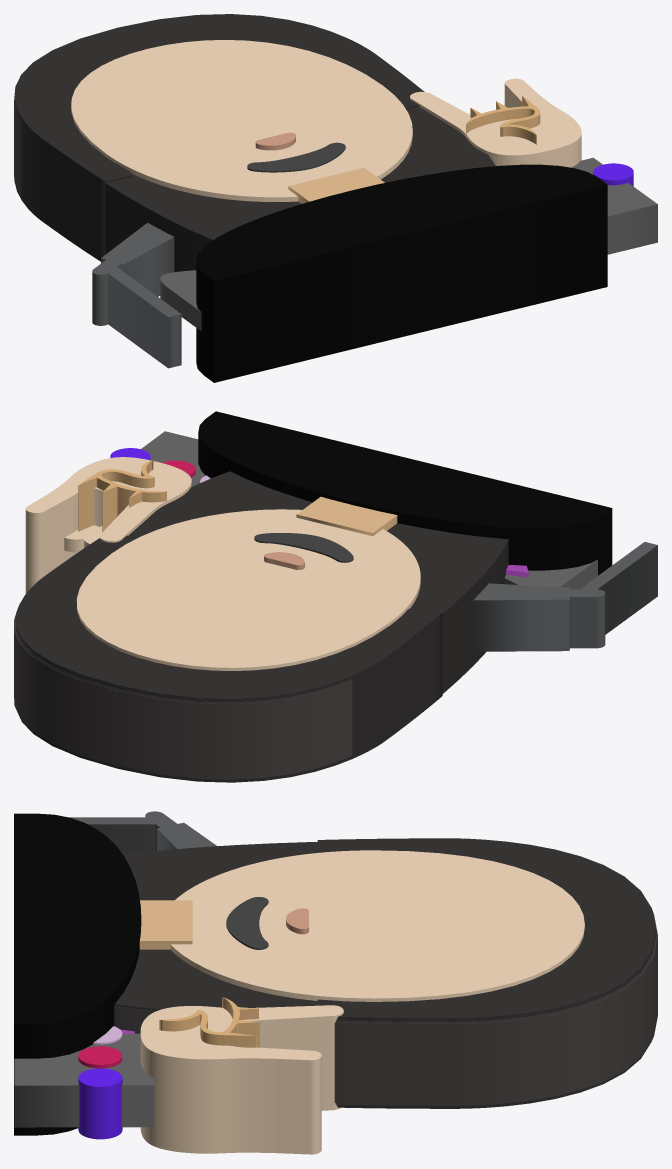
File: emoji_u1f469_1f3fb_200d_1f3a4.glb
The picture shows the model from 3 angles, top to bottom: view 1: azimuth 30°, elevation 25°; view 2: azimuth 150°, elevation 25°; view 3: azimuth 270°, elevation 25°; orthographic projection. The views are drawn at different scales.
Parts seen in each view (by area): view 1: emoji_u1f469_1f3fb_200d_1f3a4; view 2: emoji_u1f469_1f3fb_200d_1f3a4; view 3: emoji_u1f469_1f3fb_200d_1f3a4.
Part boxes in pixels (x1,y1,x2,y2): emoji_u1f469_1f3fb_200d_1f3a4: (14, 14, 657, 382); emoji_u1f469_1f3fb_200d_1f3a4: (14, 411, 657, 782); emoji_u1f469_1f3fb_200d_1f3a4: (14, 811, 657, 1154).
Size of the model in its own units: 0.0336 by 0.0066 by 0.0334.
